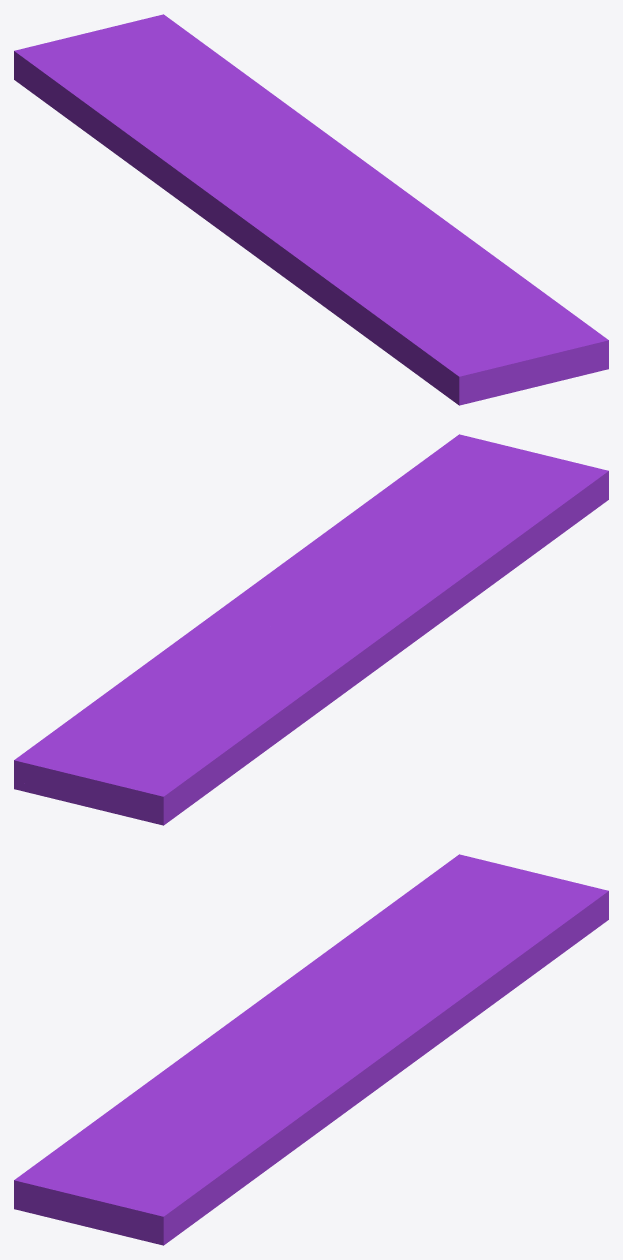
Rendered from StairsStep_129_chunks.fbx.
The picture shows the model from 3 angles, top to bottom: view 1: azimuth 30°, elevation 25°; view 2: azimuth 150°, elevation 25°; view 3: azimuth 330°, elevation 25°; orthographic projection.
Parts seen in each view (by area): view 1: StairsStep_129_2, StairsStep_129_3, StairsStep_129_1, StairsStep_129_0; view 2: StairsStep_129_3, StairsStep_129_2, StairsStep_129_1, StairsStep_129_0; view 3: StairsStep_129_2, StairsStep_129_3, StairsStep_129_1, StairsStep_129_0.
Boxes of the visible parts, left/top/right/bottom form: StairsStep_129_2: left=267, top=191, right=608, bottom=405; StairsStep_129_3: left=14, top=14, right=323, bottom=211; StairsStep_129_1: left=186, top=31, right=404, bottom=192; StairsStep_129_0: left=195, top=210, right=286, bottom=278; StairsStep_129_3: left=14, top=612, right=381, bottom=825; StairsStep_129_2: left=256, top=434, right=608, bottom=625; StairsStep_129_1: left=14, top=583, right=297, bottom=793; StairsStep_129_0: left=345, top=611, right=435, bottom=692; StairsStep_129_2: left=14, top=1033, right=366, bottom=1245; StairsStep_129_3: left=241, top=854, right=608, bottom=1038; StairsStep_129_1: left=324, top=898, right=608, bottom=1102; StairsStep_129_0: left=206, top=1014, right=268, bottom=1039.
Bounding box in the file's own units: 157 × 28.98 × 810.
